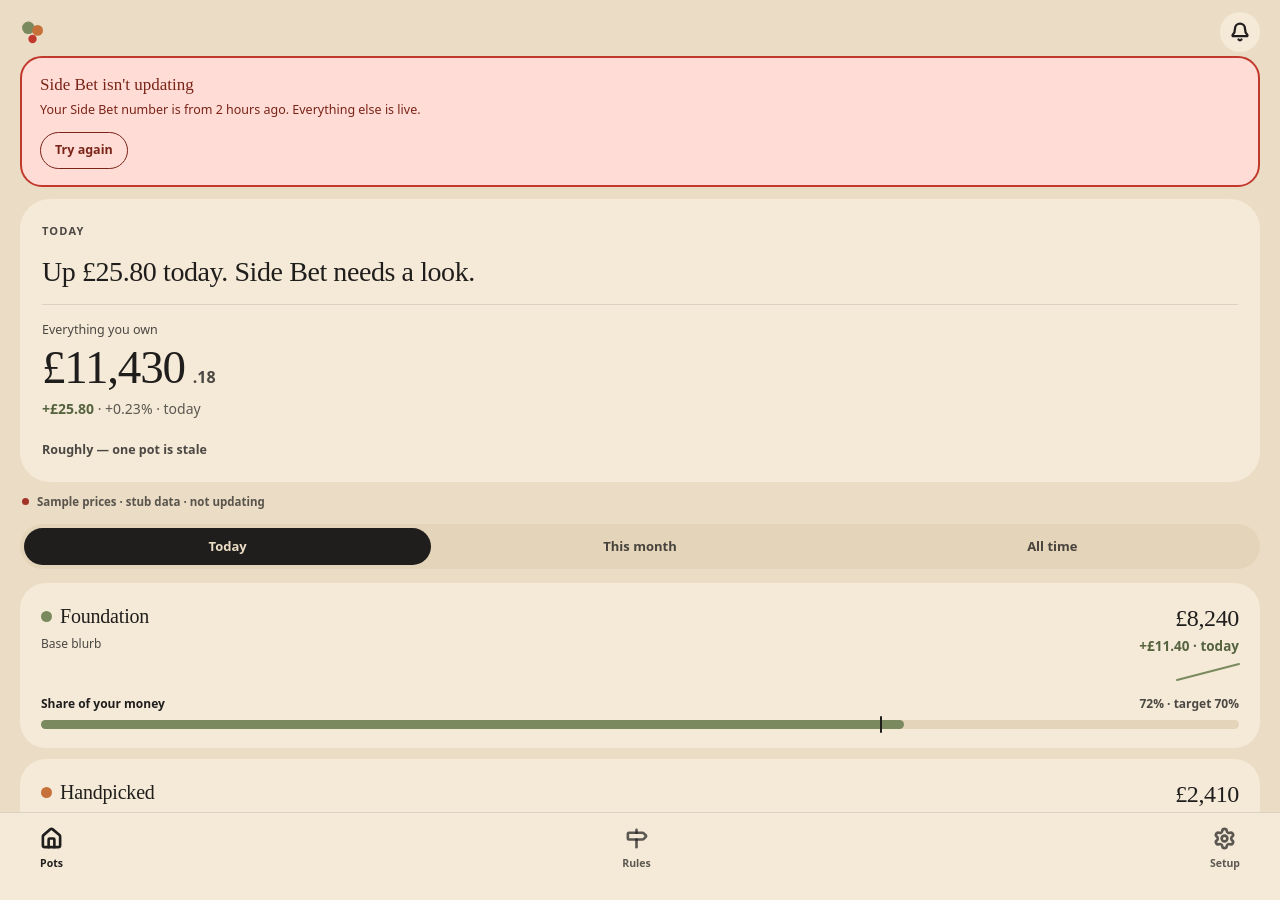
Scenario: the staleness ladder on Pots › goes red when a feed fails: a card with a retry, the pot dimmed, the total marked rough
Expected: the heading "Side Bet isn't updating" is shown, [40,75,194,94]
Expected: the message shows "Your Side Bet number is from 2 hours ago. Everything else is live.", [40,101,420,118]
Click the button "Try again".
click(84, 150)  # box [40,132,128,169]
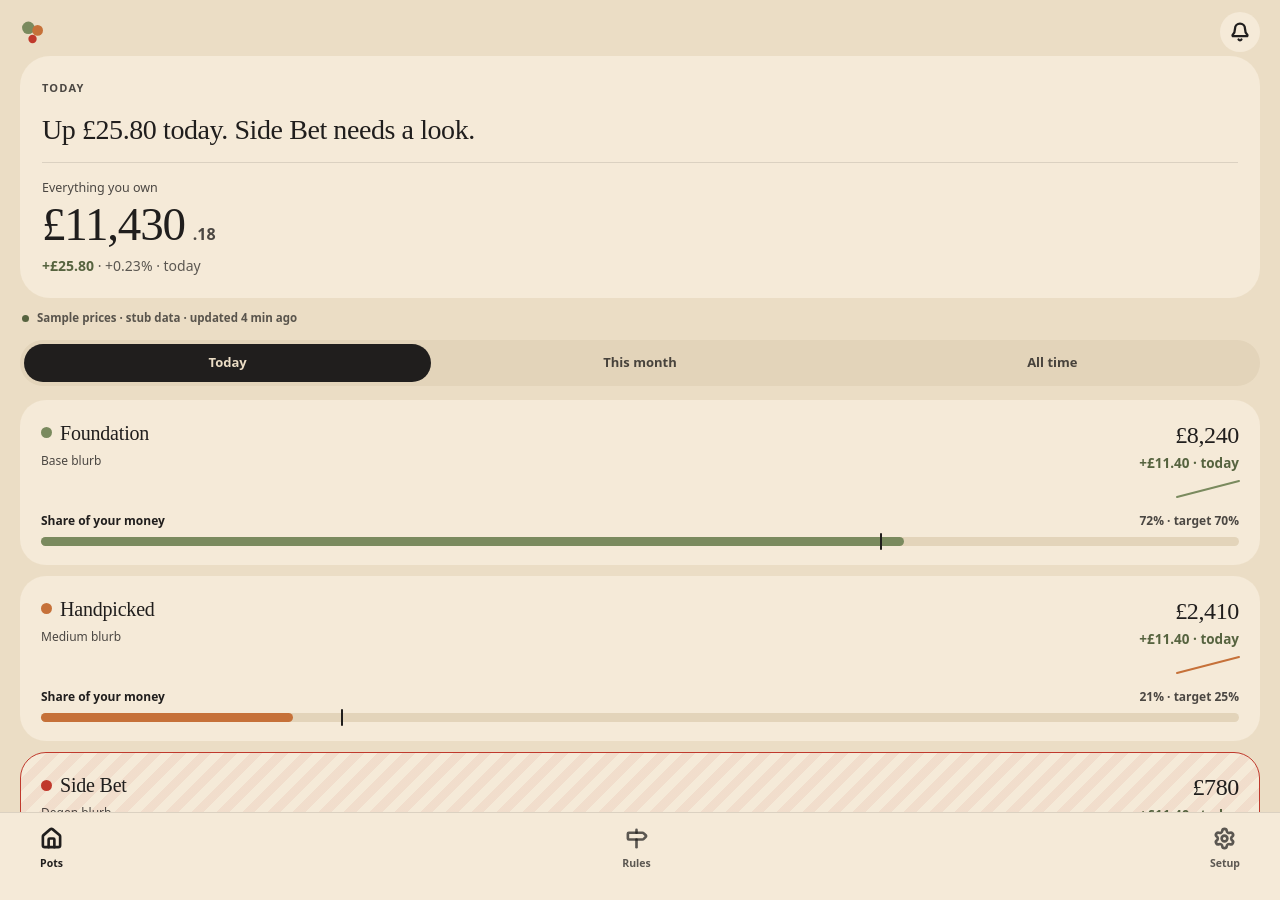
Now the text "Sample prices · stub data · updated 4 min ago" is shown, box [22,310,297,325]
Now the message is gone
